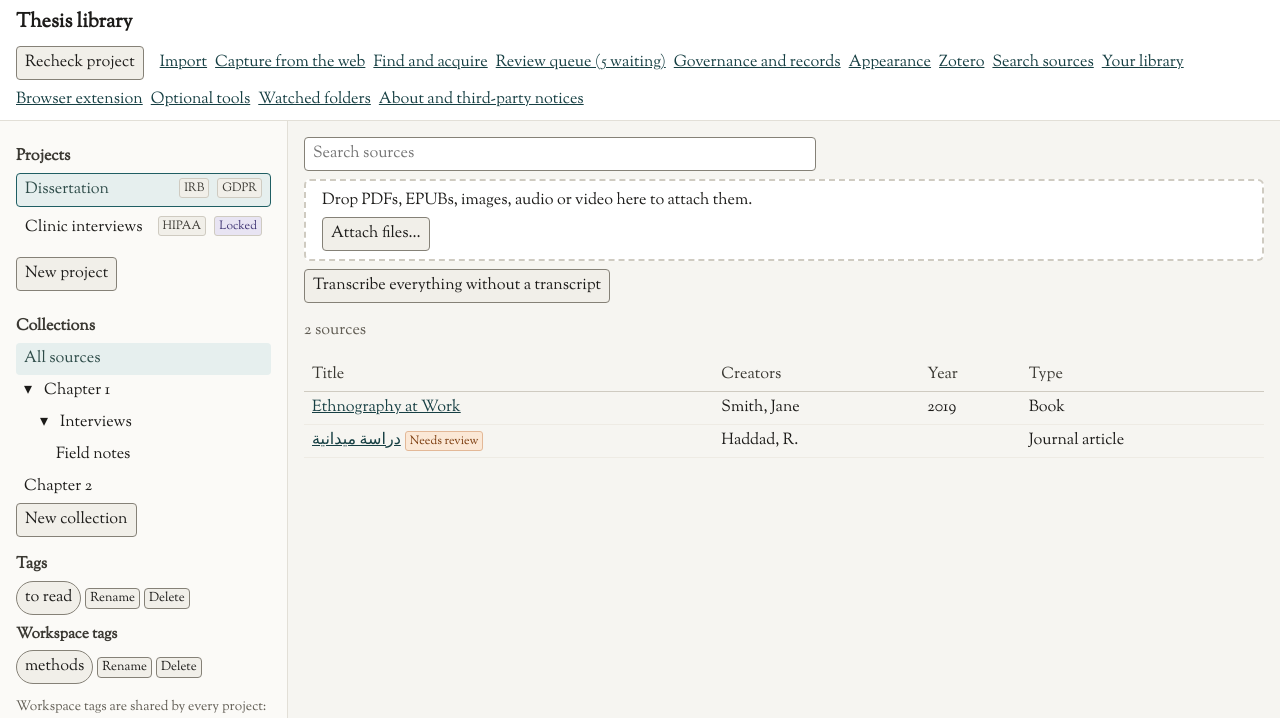
it: Library screen › a locked project's queue count is neither asked for nor shown (Task 67)
Check: the link "Review queue (5 waiting)" is shown, box [496, 51, 666, 75]
Click the button "Clinic interviews HIPAA Locked" at (144, 228), box [16, 211, 271, 245]
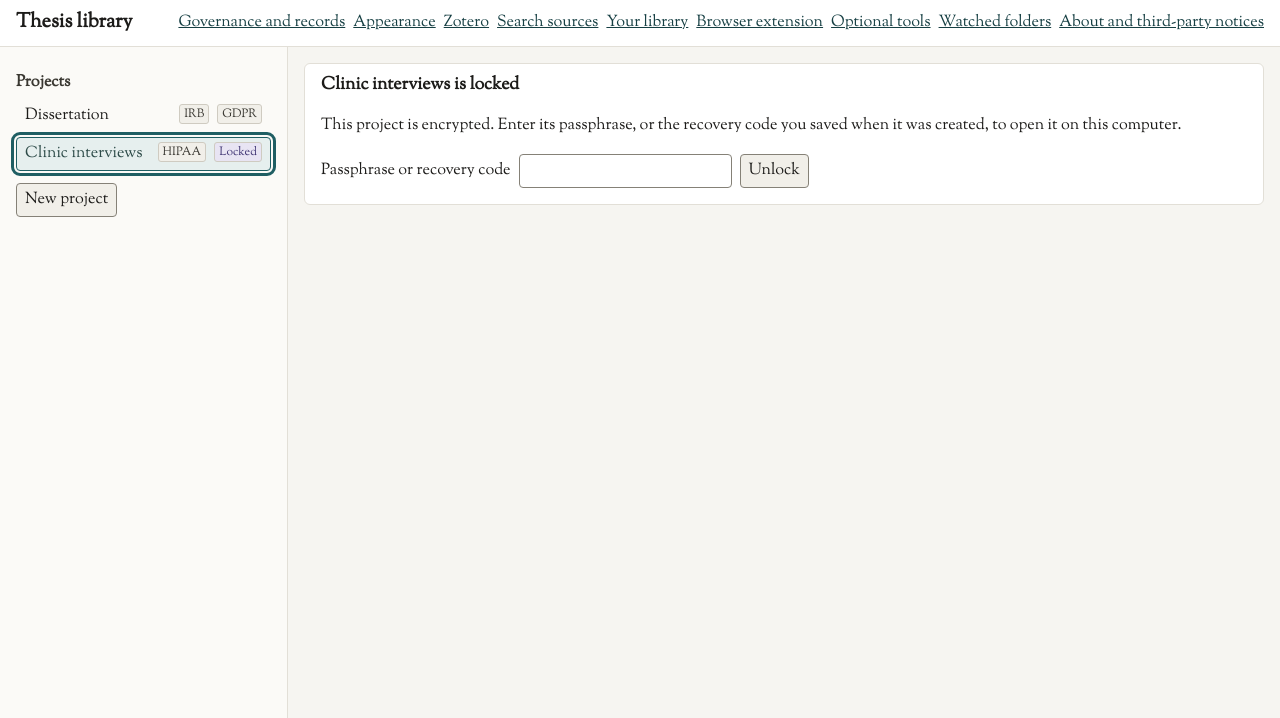
Check: the password field labelled "Passphrase or recovery code" is shown, box [518, 154, 732, 188]
Check: the link "Review queue" is gone
